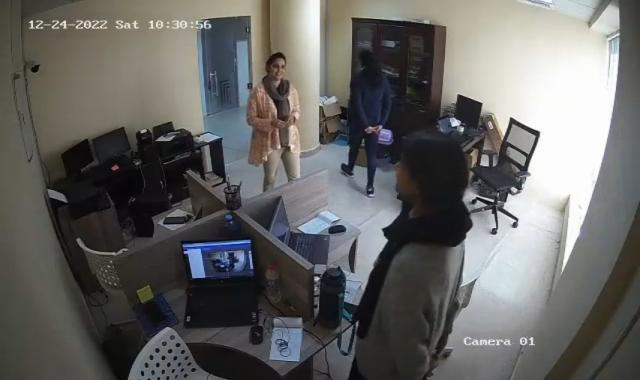no_hairnet: (392, 129, 470, 207), (260, 49, 290, 80), (355, 46, 383, 73)
